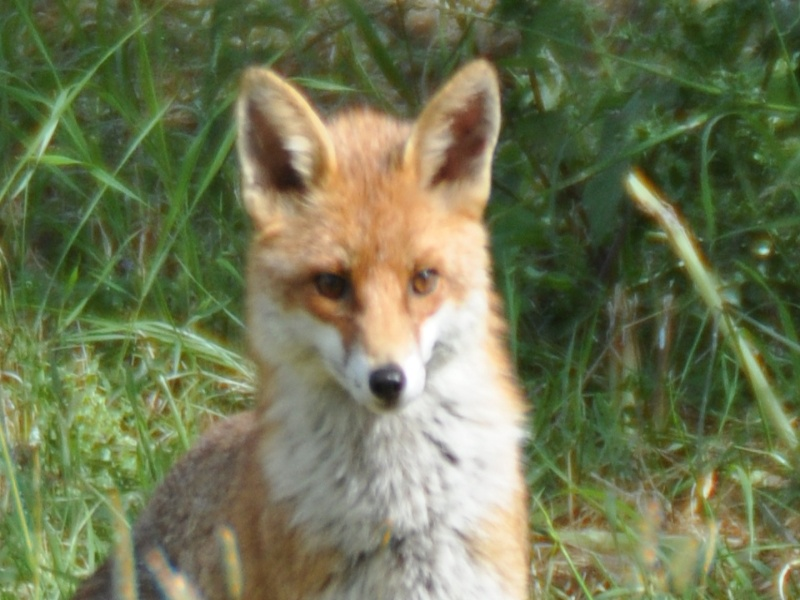fox: (73, 51, 536, 600)
